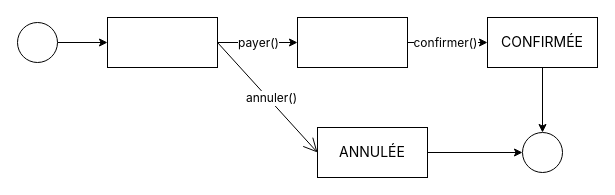
This 615x195 diagram has some shape labels left out. Each missing label, with the centre of its shape:
EN_ATTENTE: point (162, 42)
PAYÉE: point (352, 42)
